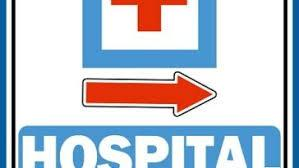Hospital: (17, 0, 275, 168)
